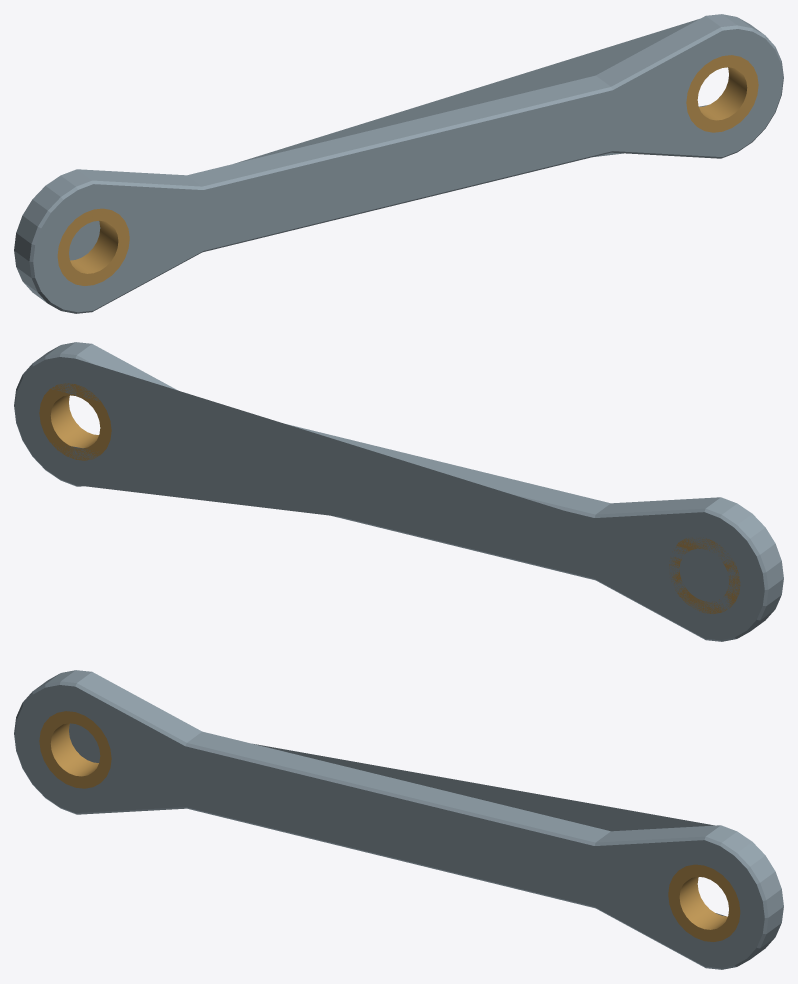
The model's file is VLAB_connecting_rod.fbx.
3 views of the same model, one above another, from view 1: azimuth 30°, elevation 25°; view 2: azimuth 150°, elevation 25°; view 3: azimuth 330°, elevation 25° (orthographic).
Visible parts, largest first — view 1: VLAB_connecting_rod_Rod_VIS, VLAB_connecting_rod_PinSockets_VIS; view 2: VLAB_connecting_rod_Rod_VIS, VLAB_connecting_rod_PinSockets_VIS; view 3: VLAB_connecting_rod_Rod_VIS, VLAB_connecting_rod_PinSockets_VIS.
Part boxes in pixels (box(x1,y1,x2,y2)): VLAB_connecting_rod_Rod_VIS: box(14, 14, 783, 313); VLAB_connecting_rod_PinSockets_VIS: box(57, 55, 758, 285); VLAB_connecting_rod_Rod_VIS: box(14, 342, 783, 641); VLAB_connecting_rod_PinSockets_VIS: box(39, 383, 740, 613); VLAB_connecting_rod_Rod_VIS: box(14, 670, 783, 969); VLAB_connecting_rod_PinSockets_VIS: box(39, 711, 740, 941).
Size of the model in its own units: 0.096 by 0.016 by 0.004.
